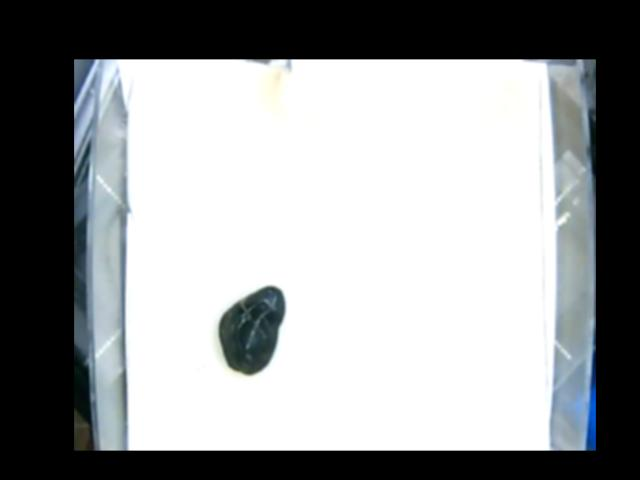Pebble: (217, 283, 286, 375)
